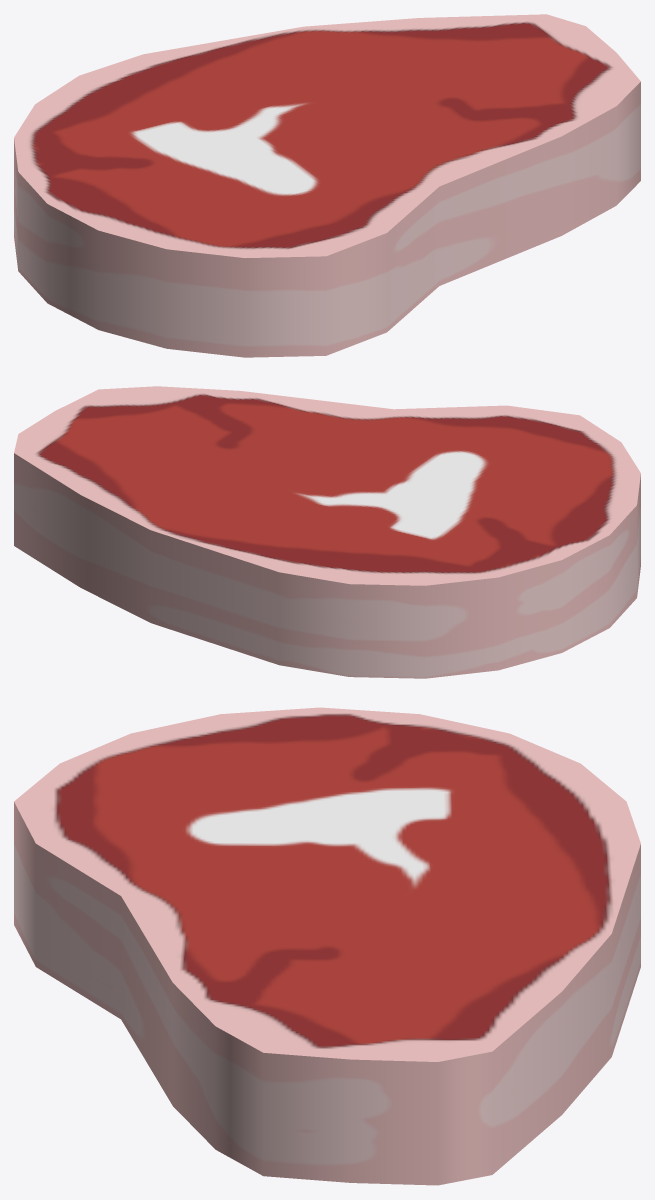
Rendered from porkchop.fbx.
The picture shows the model from 3 angles, top to bottom: view 1: azimuth 30°, elevation 25°; view 2: azimuth 150°, elevation 25°; view 3: azimuth 270°, elevation 25°; orthographic projection. The views are drawn at different scales.
Visible parts, largest first — view 1: pCylinder1; view 2: pCylinder1; view 3: pCylinder1.
Boxes of the visible parts, box(x1,y1,x2,y2) form: pCylinder1: box(14, 14, 640, 357); pCylinder1: box(14, 386, 640, 678); pCylinder1: box(14, 707, 640, 1185).
Bounding box in the file's own units: 26.06 × 4.23 × 19.47.
Materials: 1 (1 with a texture image).
